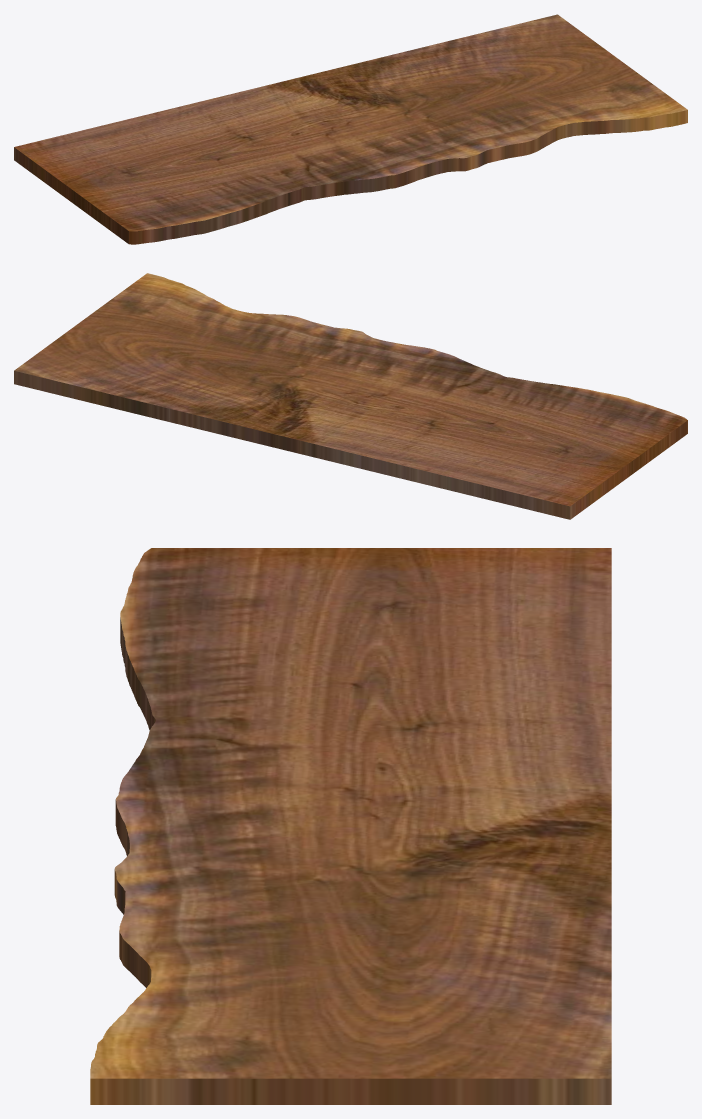
File: counterTop60LiveEdge.glb
3 views of the same model, one above another, from view 1: azimuth 30°, elevation 25°; view 2: azimuth 150°, elevation 25°; view 3: azimuth 270°, elevation 25° (orthographic). The views are drawn at different scales.
Parts seen in each view (by area): view 1: luxLiveEdgeWorkSurface; view 2: luxLiveEdgeWorkSurface; view 3: luxLiveEdgeWorkSurface.
Part boxes in pixels (x1=…): luxLiveEdgeWorkSurface: x1=14, y1=14, x2=687, y2=244; luxLiveEdgeWorkSurface: x1=14, y1=273, x2=687, y2=519; luxLiveEdgeWorkSurface: x1=90, y1=548, x2=611, y2=1104.
Size of the model in its own units: 1.52 by 0.0353 by 0.633.
Materials: 2 (2 with a texture image).
